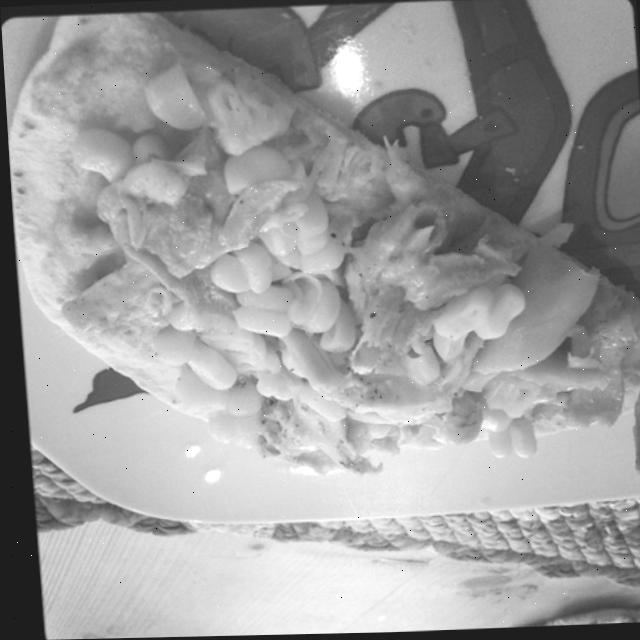面包点心: (22, 0, 640, 536)
